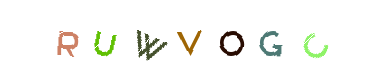C: (230, 0, 310, 80)
G: (205, 0, 285, 80)
O: (153, 0, 233, 80)
R: (64, 0, 144, 80)
U: (80, 0, 160, 80)
V: (149, 0, 229, 80)
W: (149, 0, 229, 80)
